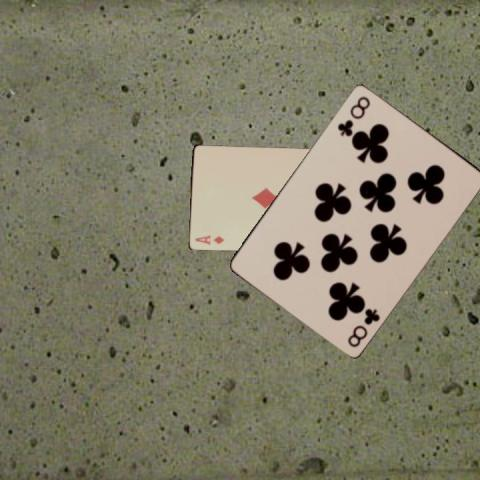8c: (334, 93, 372, 137), (345, 304, 381, 348)
Ad: (192, 233, 226, 246)
